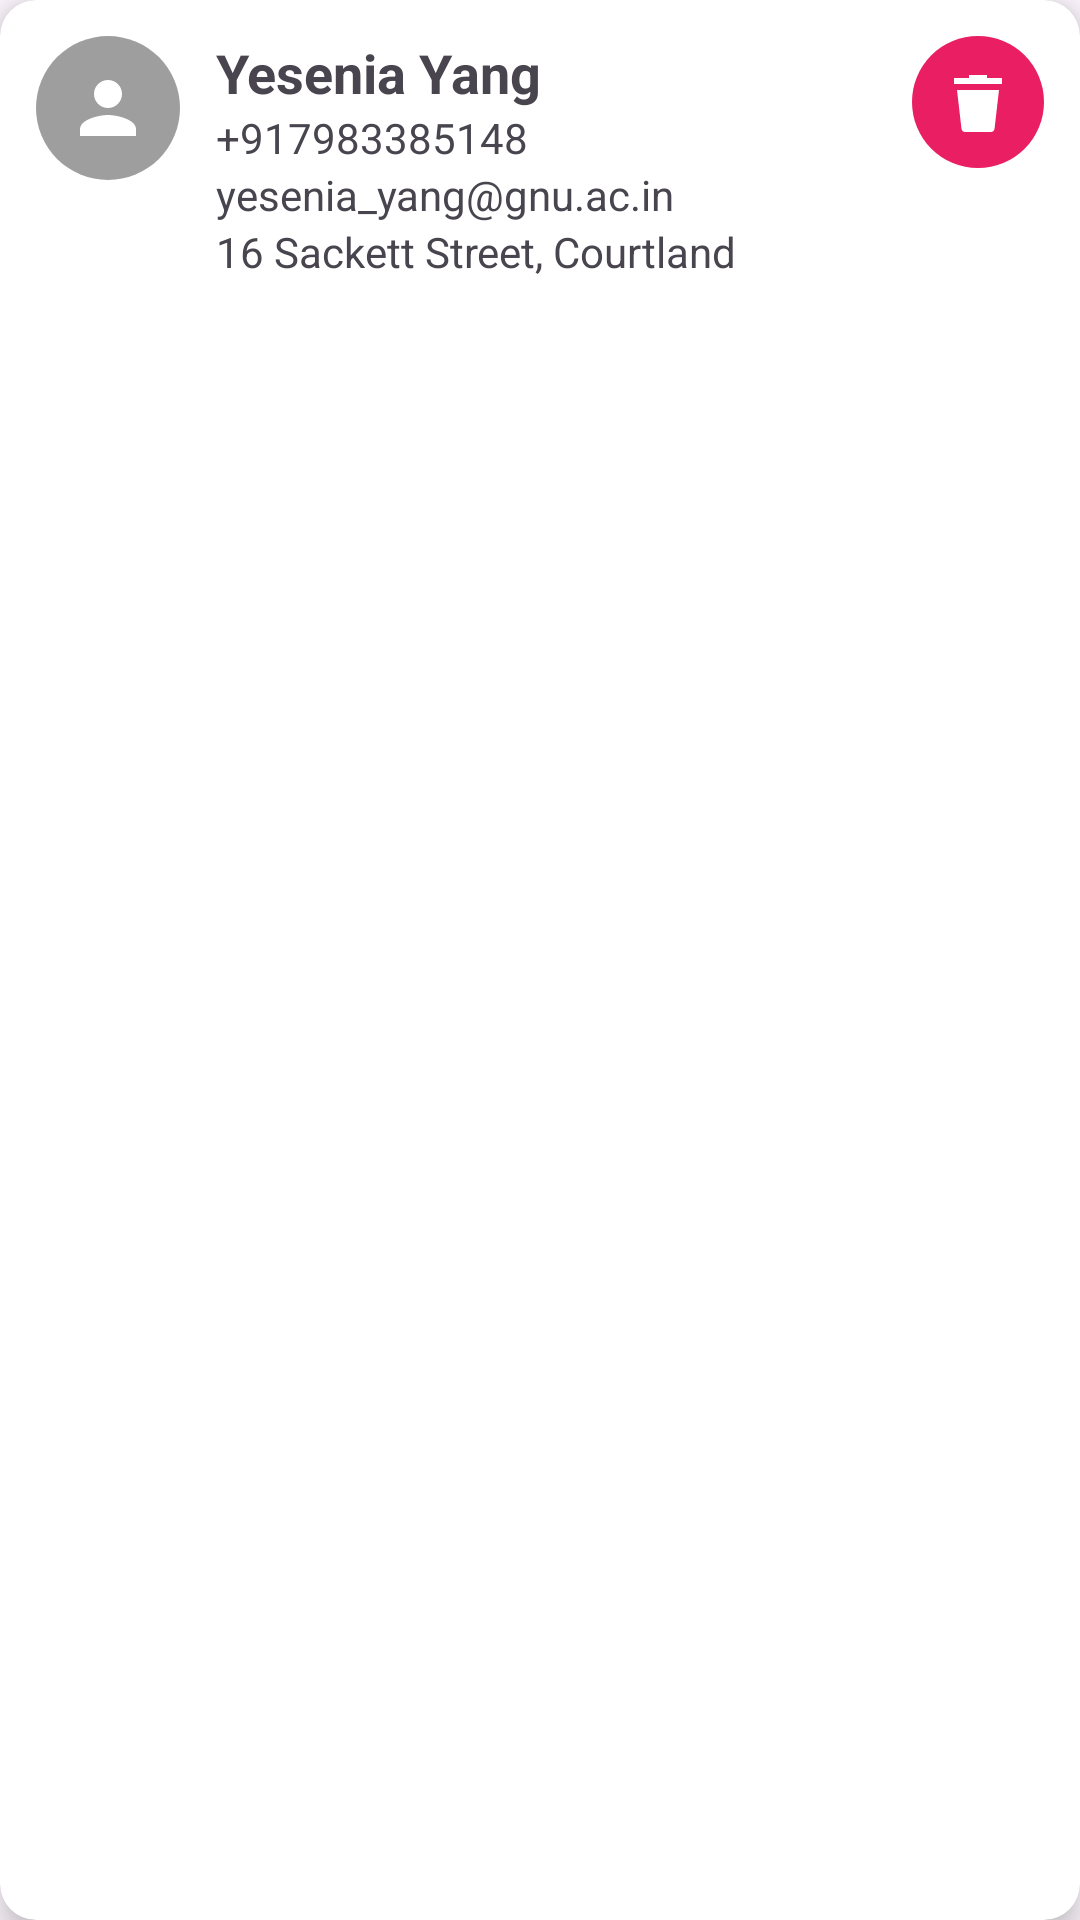

Icon bounding boxes for this 1080×1920 phone screenshot, format (x1, y1, x2, y2):
delete: (912, 36, 1044, 168)
person: (36, 36, 180, 180)
